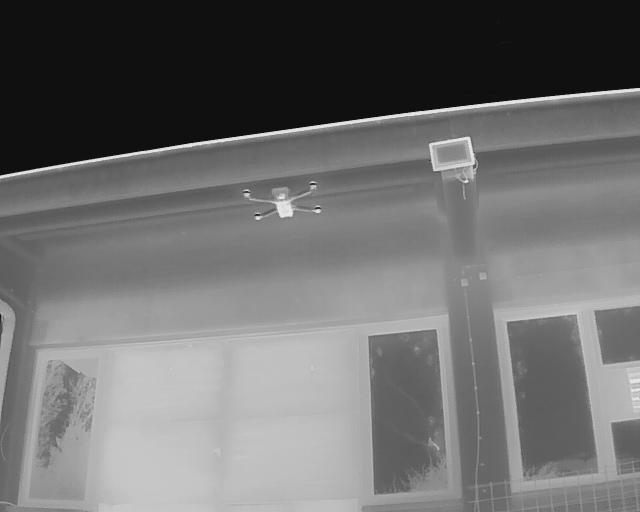drone: (233, 174, 328, 229)
